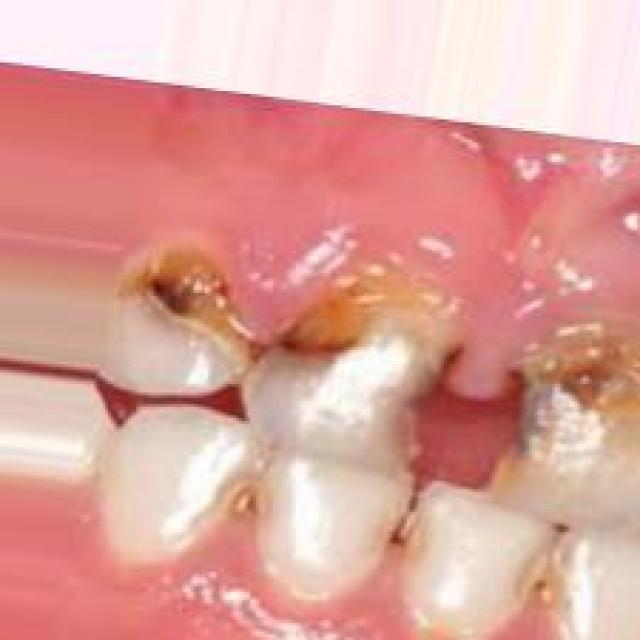caries: (264, 273, 466, 463), (495, 330, 640, 514), (90, 239, 256, 395)
